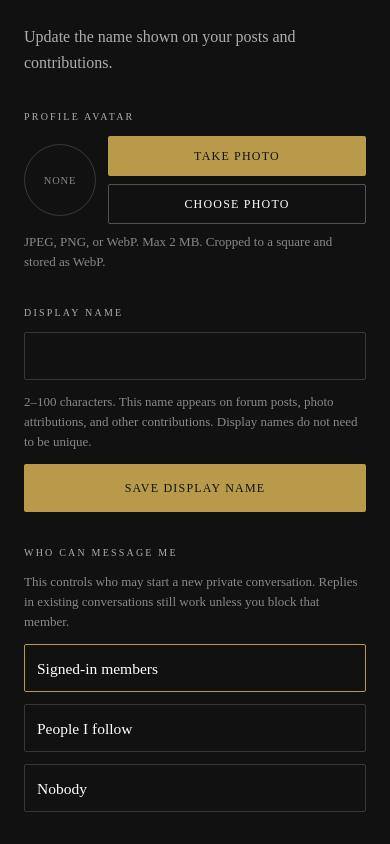
Test: SettingsScreen notifications › shows a local-file avatar failure instead of a fake offline message
Click the button "Choose photo": x=237, y=204 [108,184,366,224]
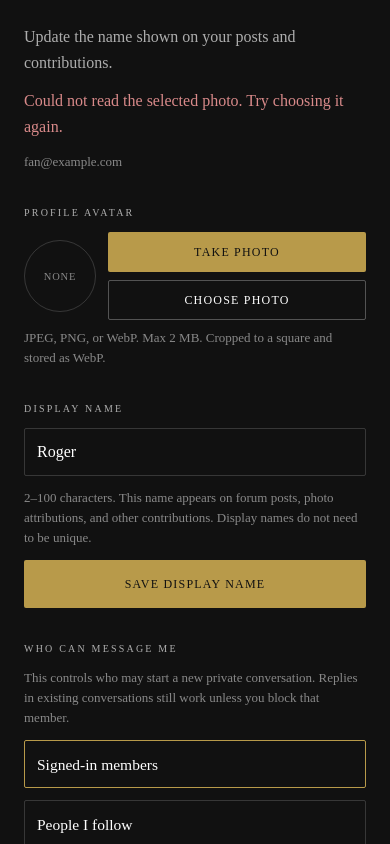
Now the text "Could not read the selected photo. Try choosing it again." is shown, box [24,88,366,140]
